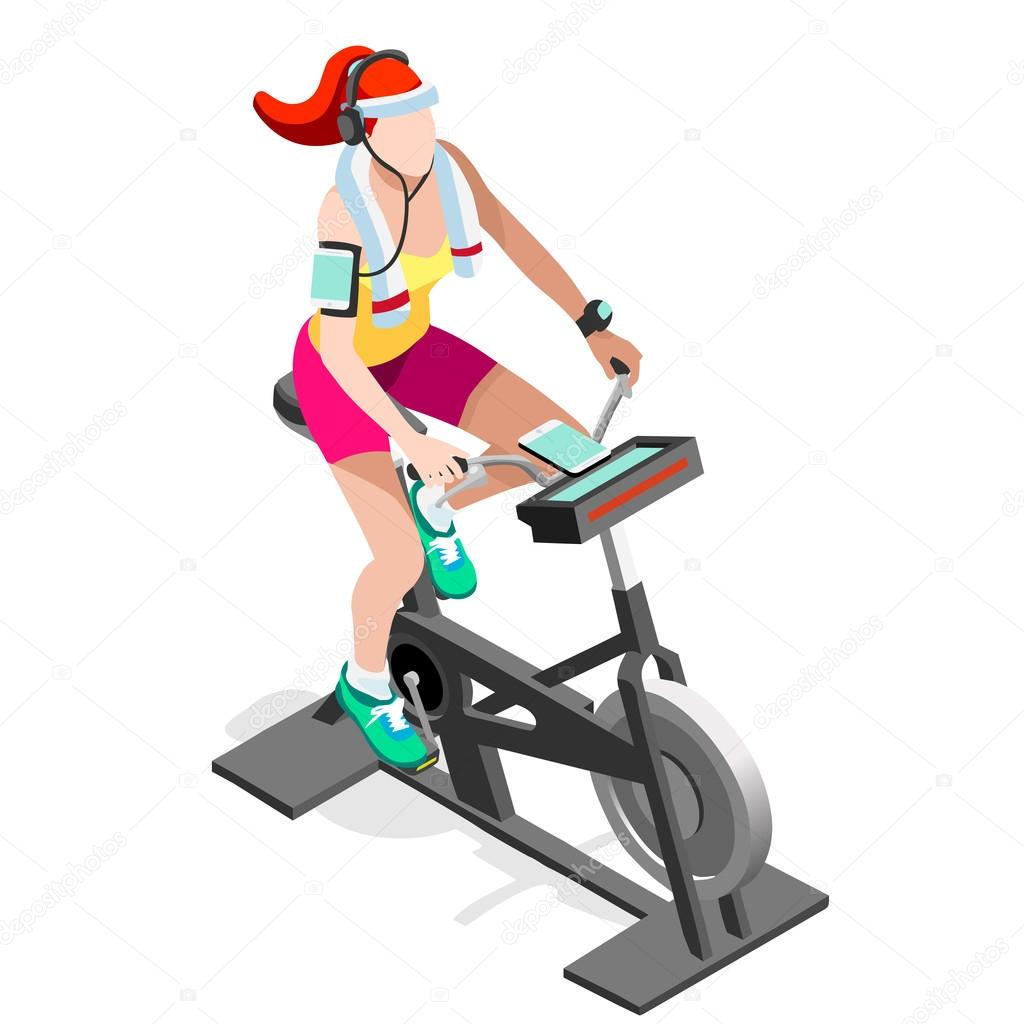gym_bike: (244, 470, 848, 989)
